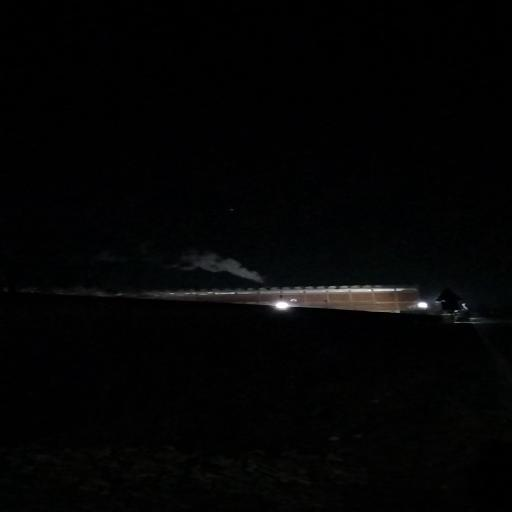leakage: (162, 248, 279, 286)
